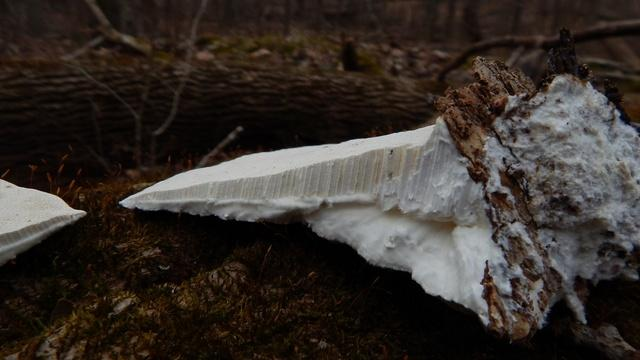Non-edible Mushroom: (117, 26, 638, 344)
